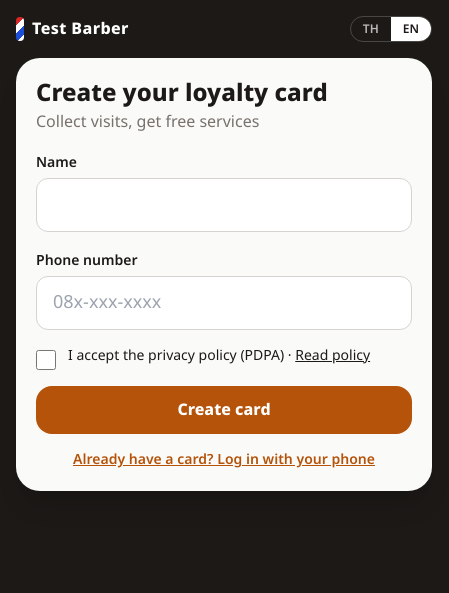
Test case: Stamp – returning customer in a new browser › a registered phone logs in with the phone number and then gets the stamp
Type "Somchai" into the field labelled "Name" at coordinates (224, 205), box [36, 178, 412, 232]
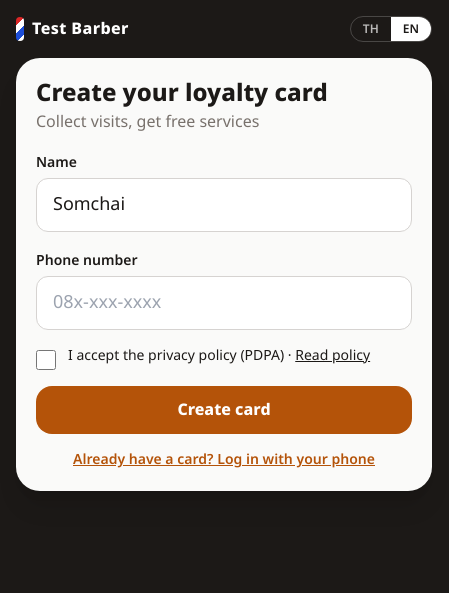
Type "0811111111" into the field labelled "Phone number" at coordinates (224, 303), box [36, 276, 412, 330]
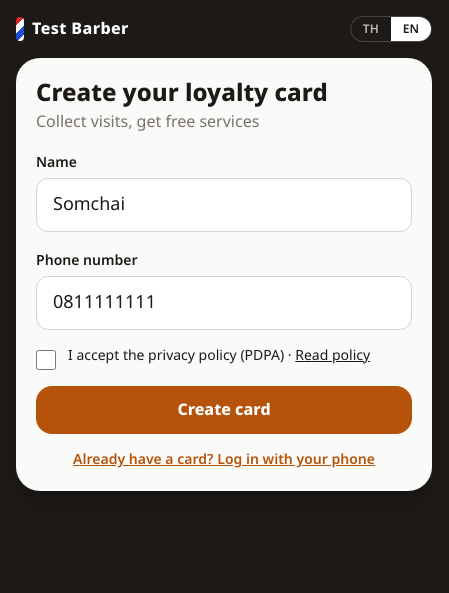
Click the checkbox at coordinates (46, 360), box [36, 350, 56, 370]
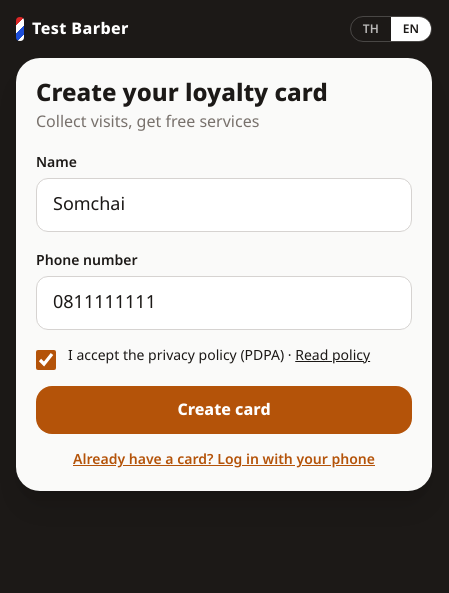
Click the button "Create card" at coordinates (224, 410), box [36, 386, 412, 434]
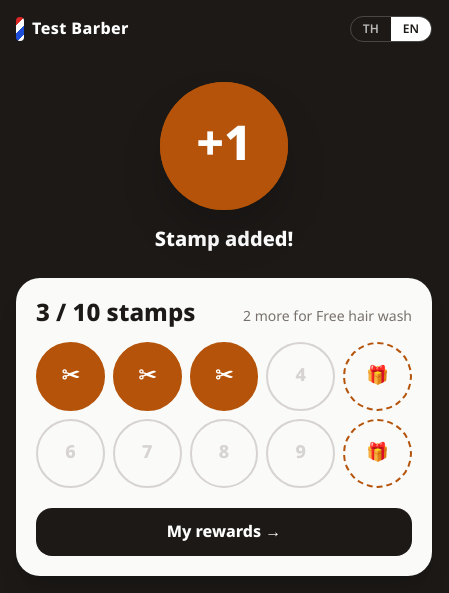
Now the text "+1" is shown, box [160, 82, 288, 210]
